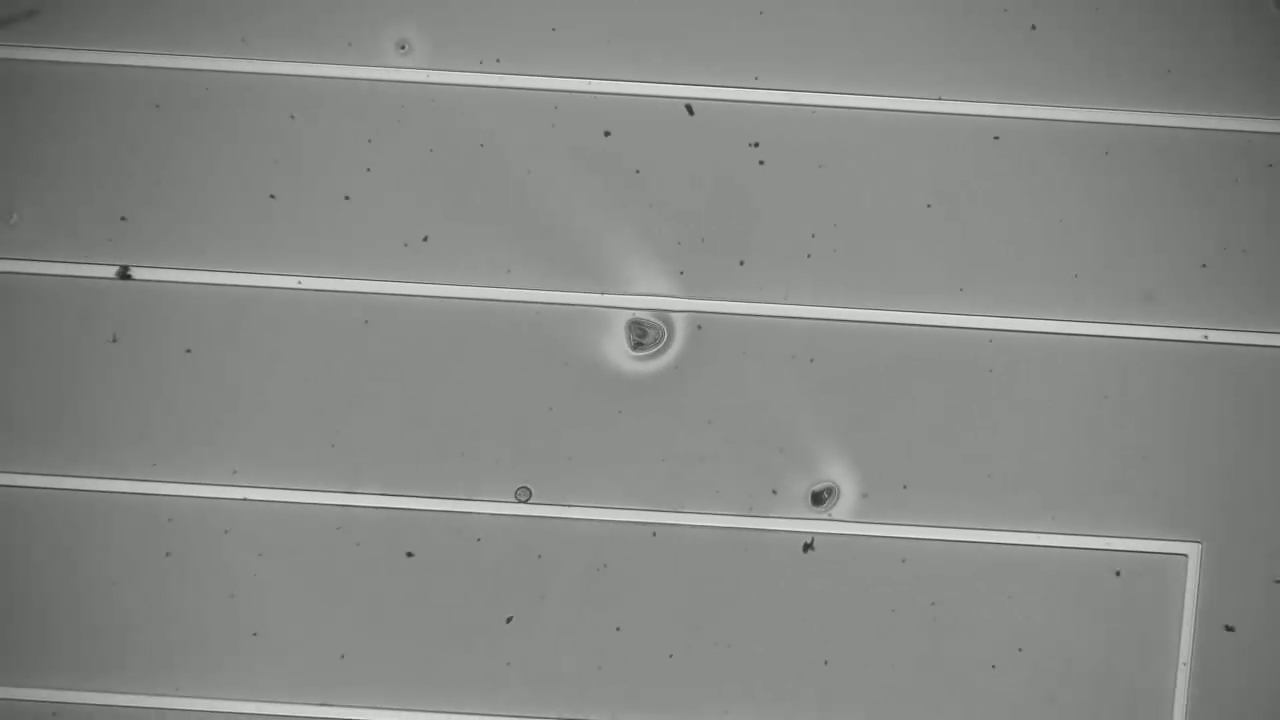stains_enbedded: (108, 253, 141, 288)
